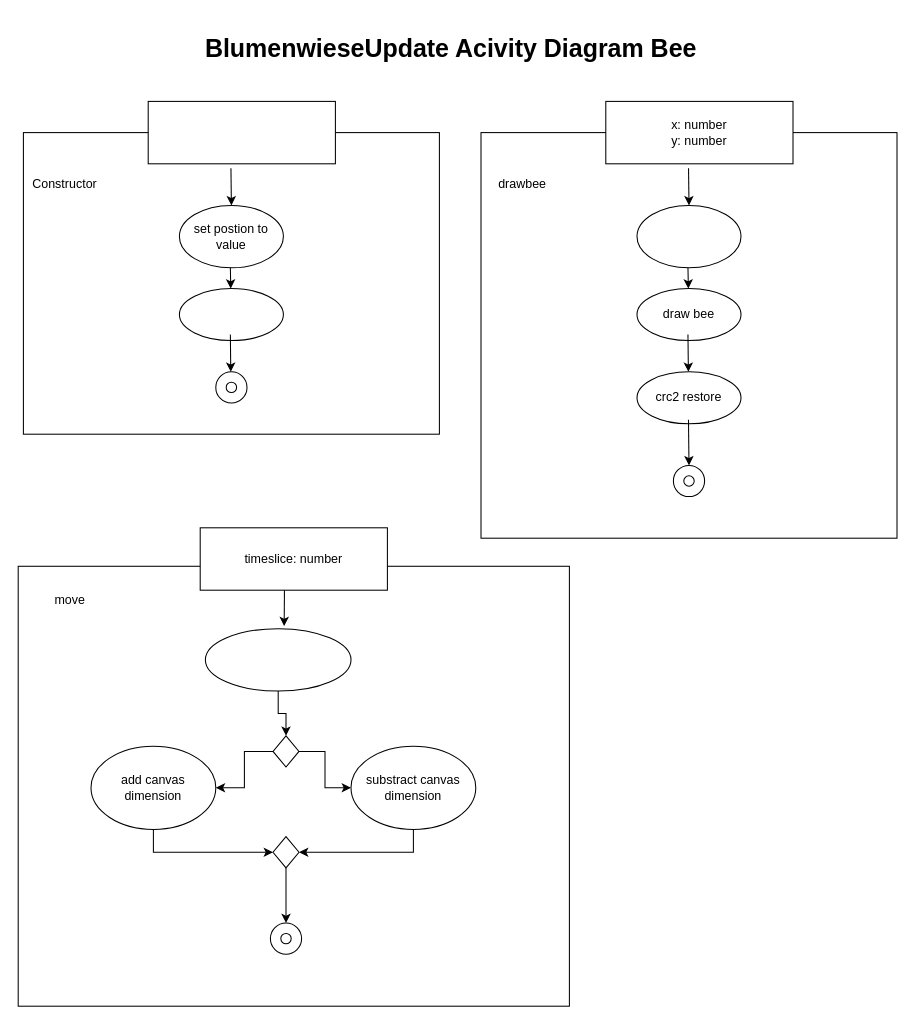
Some shapes in this 915 by 1024 pixel diagram are drawn without their labels. The box of each missing label's shape, as (x1, y1, x2, y2) in pixels:
add velocity to postion: (204, 628, 351, 691)
crc2 save: (636, 204, 741, 268)
position: Vector: (147, 100, 335, 164)
set velocity to random: (178, 288, 283, 341)
